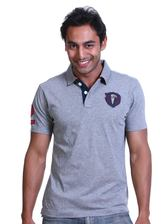clothoes: (29, 59, 150, 216)
